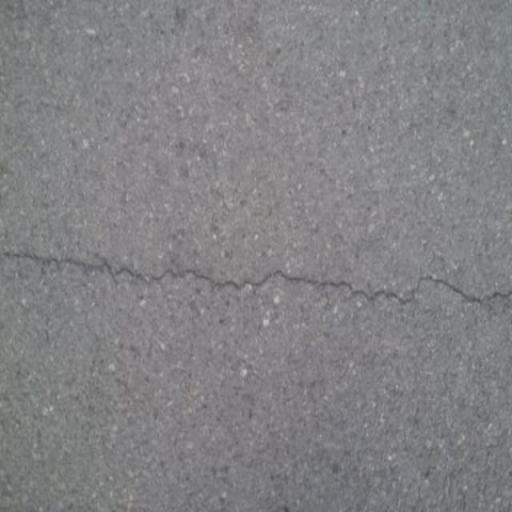severe crack: (6, 237, 512, 320)
